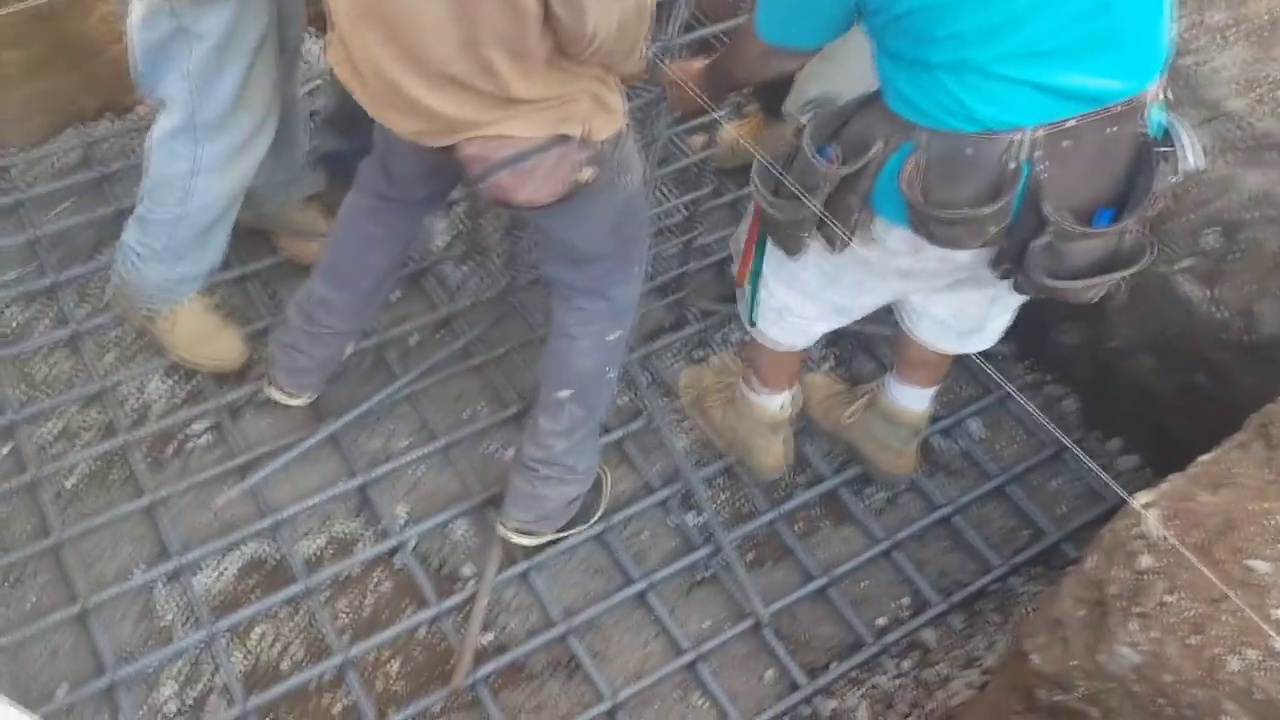person: (673, 3, 1172, 489), (264, 3, 664, 552), (110, 0, 336, 386)
